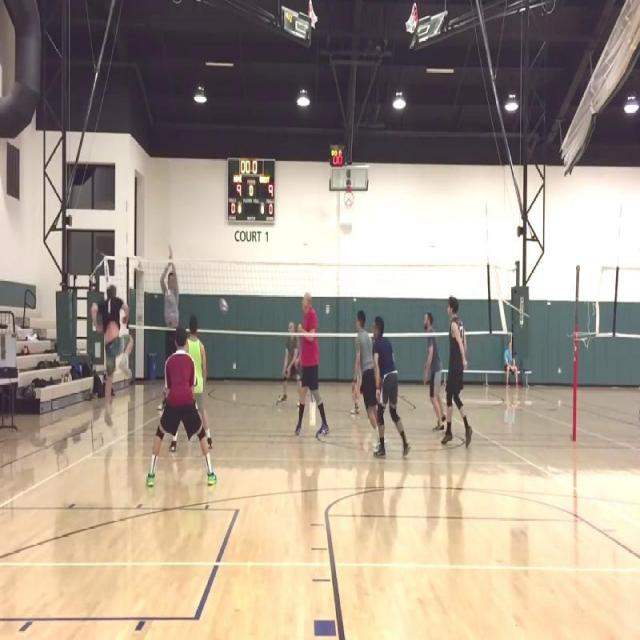volleyball: (220, 298, 228, 312)
